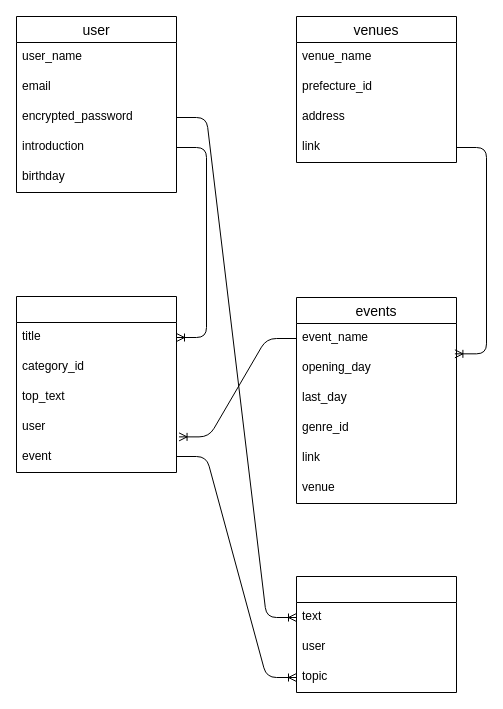
Image size: 503x709. Some labels were removed from this diagram. Here are the shapes that lost their labels. From the top down, the box of each, then its label:
(16, 296, 176, 472): topics
(296, 576, 456, 692): messages
